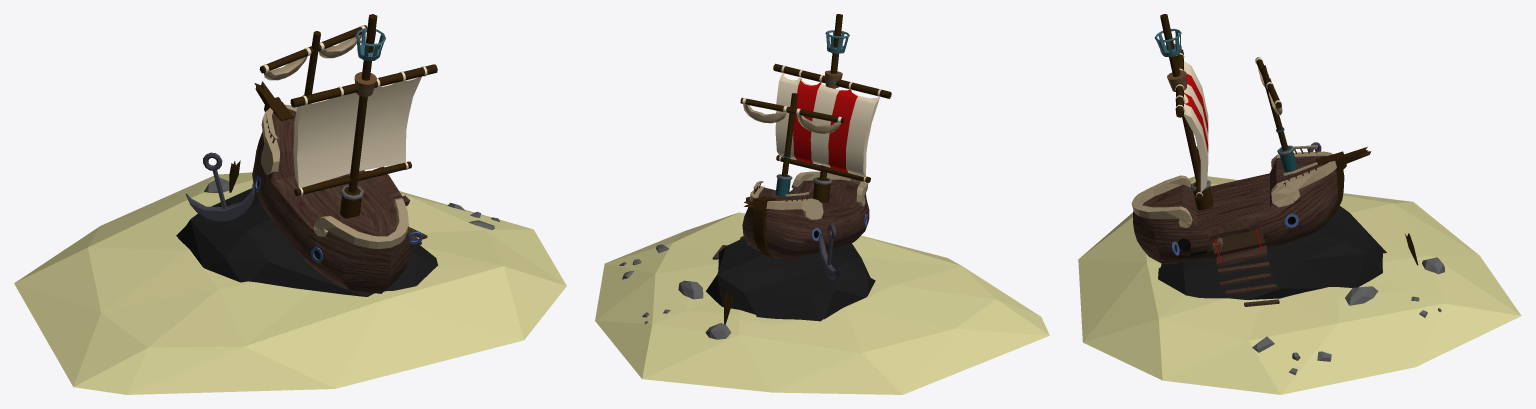
The model's file is shipwreck.glb.
3 views of the same model, side by side, from view 1: azimuth 30°, elevation 25°; view 2: azimuth 150°, elevation 25°; view 3: azimuth 270°, elevation 25° (orthographic). The views are drawn at different scales.
Visible parts, largest first — view 1: Sand, Hull, Rock, Cylinder.011, Back, Cylinder.008, Cylinder.010, Achor_Bottom, Sphere, Front, Cylinder.009, Cylinder.001 (+3 smaller); view 2: Sand, Rock, Cylinder.011, Hull, Bowsprit, Front, Cylinder.010, Sphere, Back, Cylinder.001, Cylinder, Cylinder.009 (+2 smaller); view 3: Sand, Hull, Rock, Cylinder.011, Back, Front, Cylinder.008, Bowsprit, Entrance Plank, Medium Rock 2, Cylinder.
Part boxes in pixels (x1,y1,x2,y2): Sand: (14, 172, 566, 394); Hull: (252, 110, 410, 293); Rock: (176, 187, 438, 296); Cylinder.011: (293, 76, 421, 187); Back: (313, 198, 408, 248); Cylinder.008: (348, 14, 377, 193); Cylinder.010: (290, 64, 437, 107); Achor_Bottom: (185, 183, 254, 221); Sphere: (264, 34, 361, 80); Front: (261, 104, 297, 174); Cylinder.009: (294, 161, 411, 195); Cylinder.001: (259, 25, 367, 73); Sand: (595, 212, 1049, 394); Rock: (706, 238, 875, 321); Cylinder.011: (775, 73, 879, 177); Hull: (742, 179, 869, 258); Bowsprit: (744, 196, 775, 257); Front: (749, 185, 823, 219); Cylinder.010: (773, 63, 891, 98); Sphere: (743, 104, 840, 133); Back: (791, 171, 868, 206); Cylinder.001: (740, 97, 844, 123); Cylinder: (781, 93, 797, 176); Cylinder.009: (776, 155, 870, 182); Sand: (1078, 176, 1521, 394); Hull: (1133, 156, 1337, 264); Rock: (1158, 206, 1386, 299); Cylinder.011: (1184, 61, 1208, 192); Back: (1131, 175, 1192, 227); Front: (1271, 151, 1336, 207); Cylinder.008: (1160, 14, 1200, 181); Bowsprit: (1315, 147, 1371, 223); Entrance Plank: (1216, 245, 1267, 266); Medium Rock 2: (1345, 286, 1378, 305); Cylinder: (1260, 65, 1288, 150).
Size of what is drawn, in the model's own units: 32.83 by 19.61 by 27.97.
Materials: 21 (2 with a texture image).
